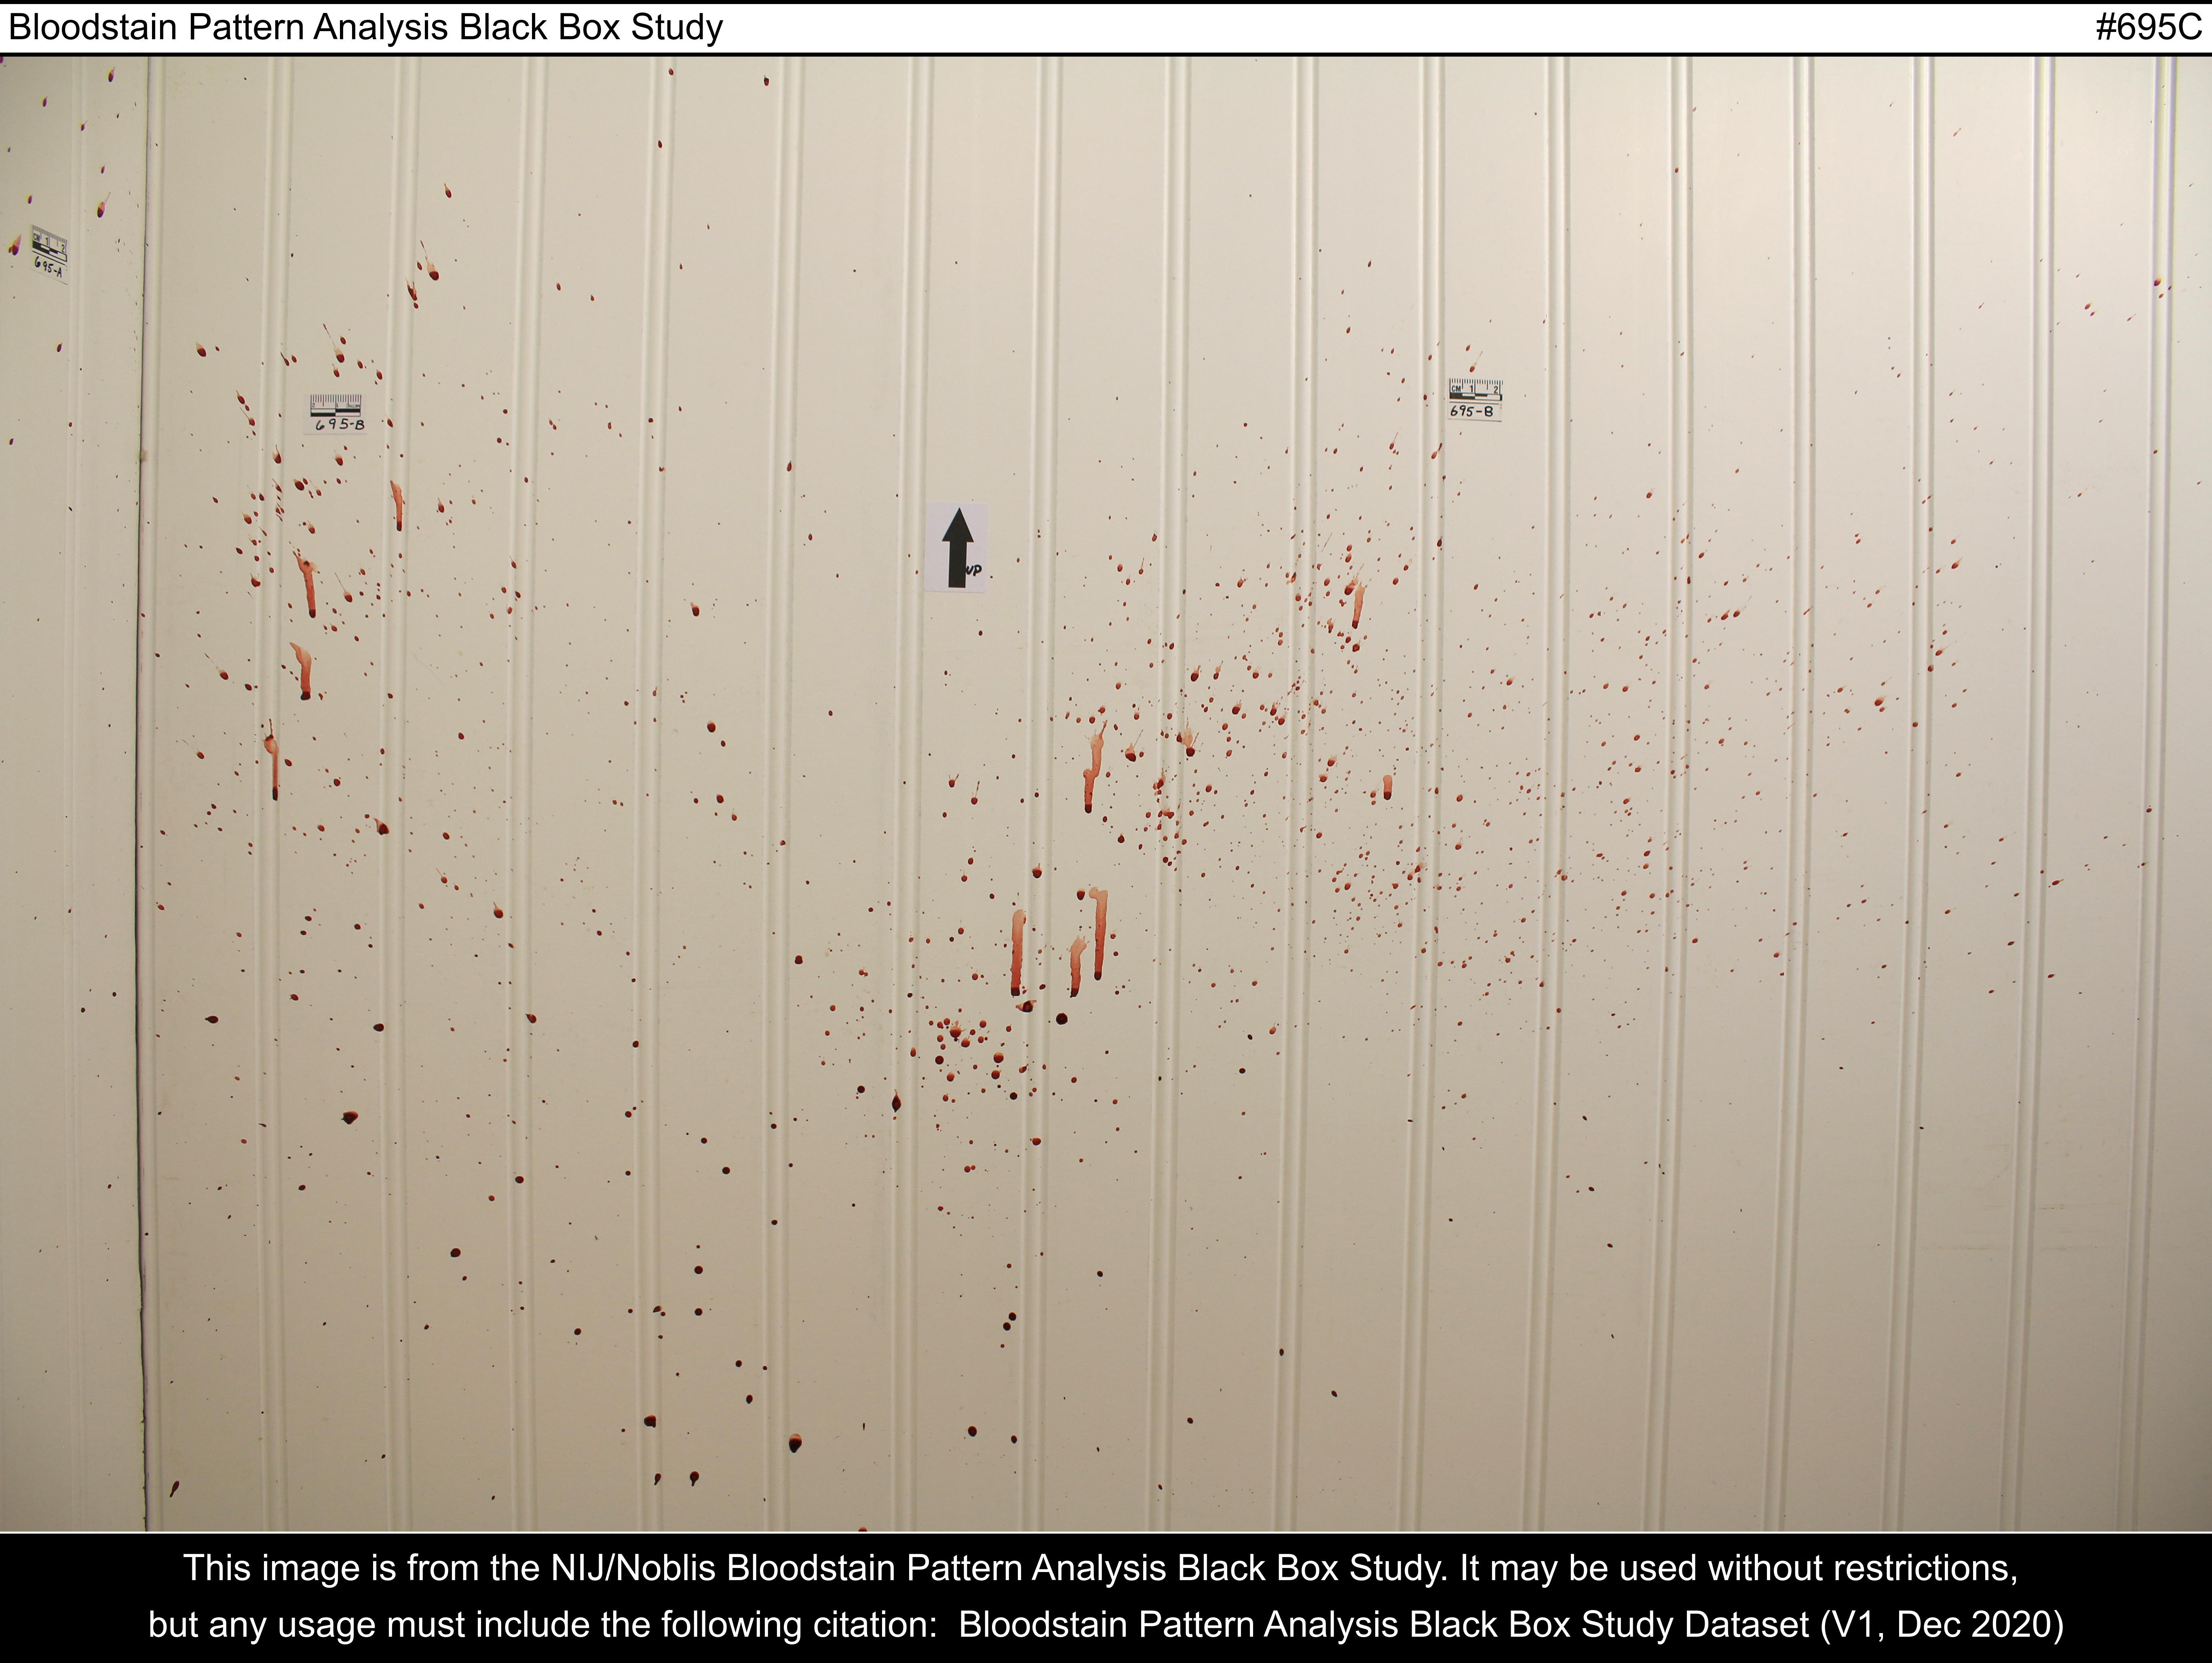Impact: (2, 59, 2009, 1537)
